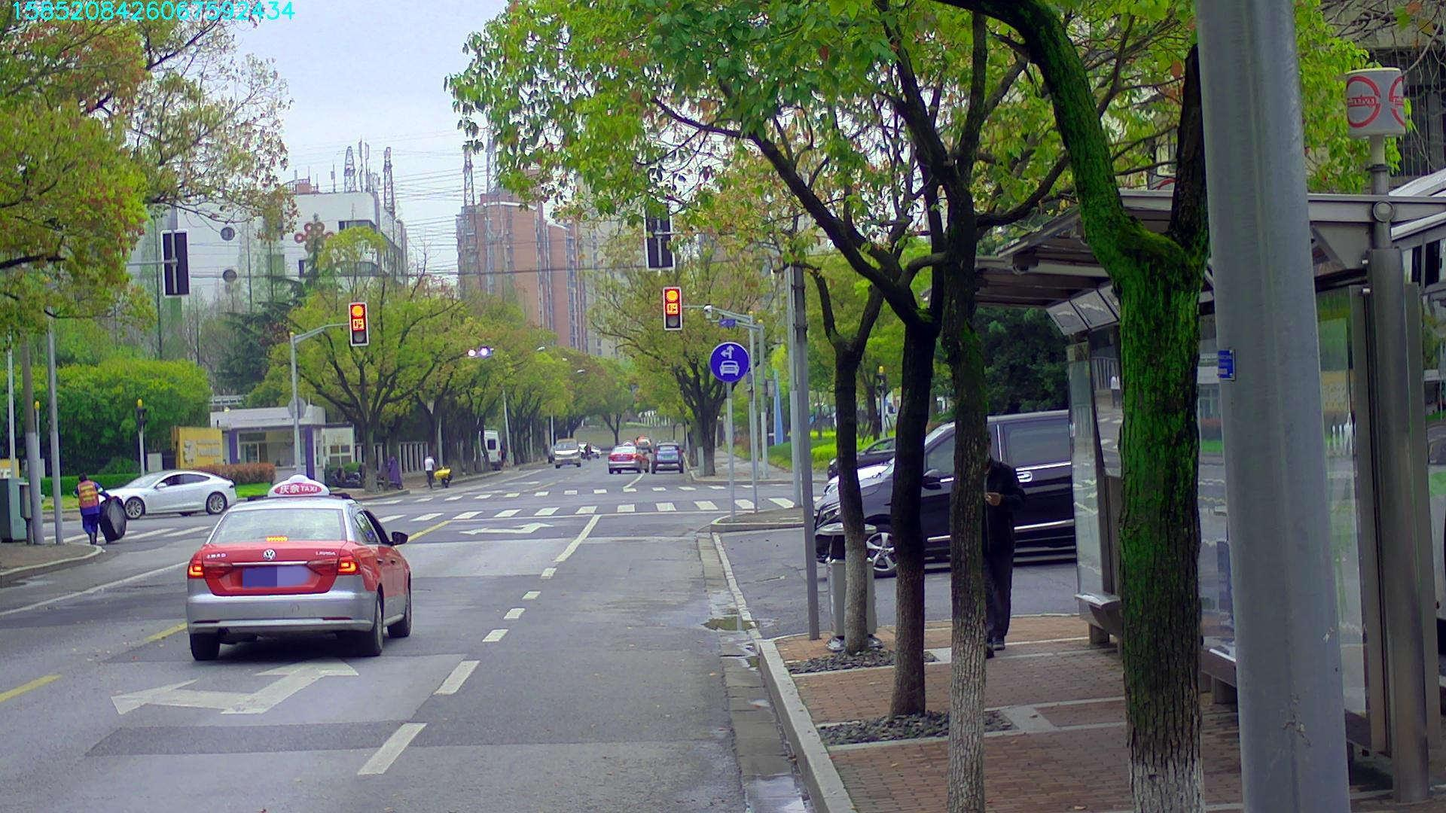red: (349, 301, 366, 345), (663, 287, 681, 327)
